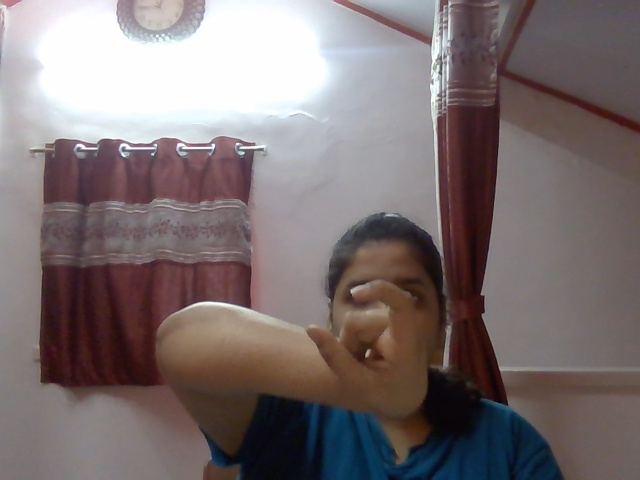x: (263, 266, 474, 425)
